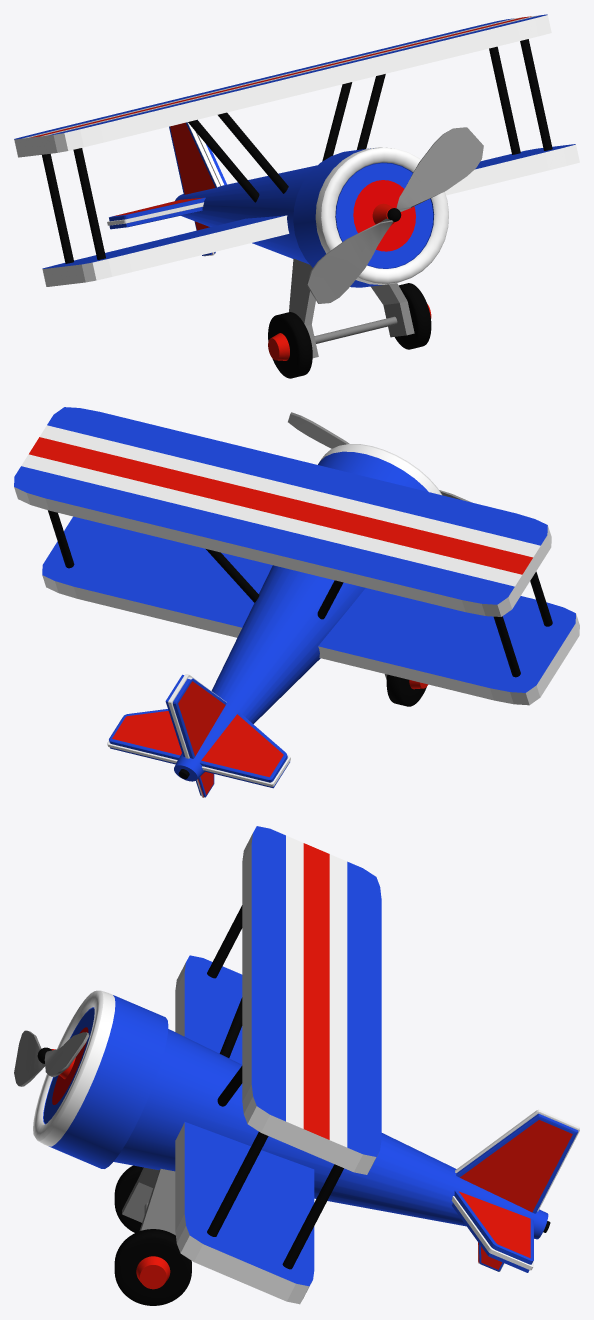
The model's file is toy_plane.glb.
3 views of the same model, one above another, from view 1: azimuth 30°, elevation 25°; view 2: azimuth 150°, elevation 25°; view 3: azimuth 270°, elevation 25° (orthographic). The views are drawn at different scales.
Visible parts, largest first — view 1: Cube, Cylinder, Cube.005, Cylinder.001, Cylinder.006, Cube.004, Cube.002, Cylinder.002, Cylinder.003, Cube.001, Cylinder.005, Cylinder.007; view 2: Cube, Cylinder, Cube.001, Cube.002, Cylinder.001, Cylinder.002, Cube.005, Cylinder.006; view 3: Cube, Cylinder, Cube.002, Cylinder.006, Cube.001, Cylinder.001, Cube.004, Cube.005, Cylinder.003, Cylinder.007.
Boxes of the visible parts, x1,y1,x2,y2 form: Cube: [14, 14, 579, 286]; Cylinder: [175, 147, 448, 287]; Cube.005: [306, 127, 483, 303]; Cylinder.001: [42, 39, 552, 263]; Cylinder.006: [268, 283, 431, 378]; Cube.004: [289, 258, 414, 358]; Cube.002: [169, 122, 226, 194]; Cylinder.002: [188, 82, 352, 202]; Cylinder.003: [218, 74, 385, 193]; Cube.001: [107, 197, 205, 229]; Cylinder.005: [314, 316, 397, 343]; Cylinder.007: [268, 304, 431, 360]; Cube: [14, 407, 579, 705]; Cylinder: [174, 444, 441, 781]; Cube.001: [107, 709, 290, 788]; Cube.002: [165, 674, 226, 758]; Cylinder.001: [48, 510, 552, 677]; Cylinder.002: [206, 549, 343, 619]; Cube.005: [288, 412, 471, 502]; Cylinder.006: [386, 674, 426, 706]; Cube: [175, 826, 381, 1304]; Cylinder: [33, 990, 548, 1239]; Cube.002: [455, 1109, 579, 1213]; Cylinder.006: [114, 1165, 191, 1305]; Cube.001: [451, 1190, 533, 1272]; Cylinder.001: [207, 905, 343, 1269]; Cube.004: [122, 1167, 175, 1235]; Cube.005: [14, 1030, 89, 1086]; Cylinder.003: [217, 997, 242, 1106]; Cylinder.007: [136, 1256, 170, 1289].
Bounding box in the file's own units: 10.44 × 5.23 × 8.72.
